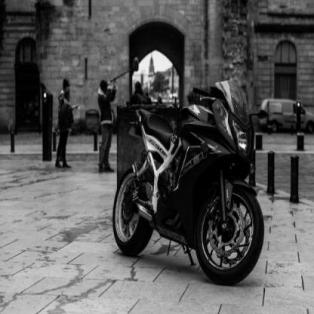Motocicleta: (110, 71, 268, 288)
